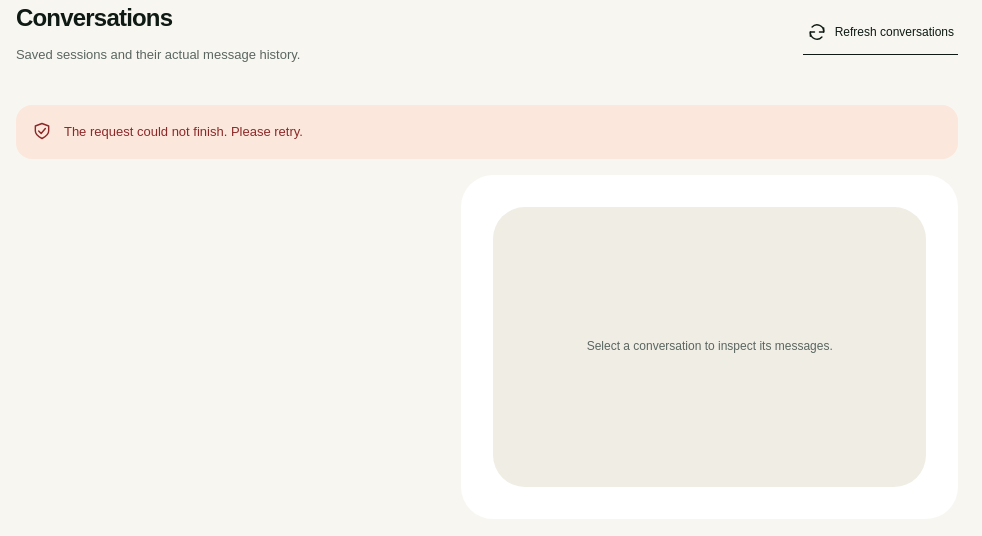
Test: conversation errors are visible and refresh retrieves the list
Expected: the message "The request could not finish. Please retry." is shown, x1=16 y1=105 x2=958 y2=159
Click the button "Refresh conversations". click: (880, 33)
box: x1=803 y1=10 x2=958 y2=55
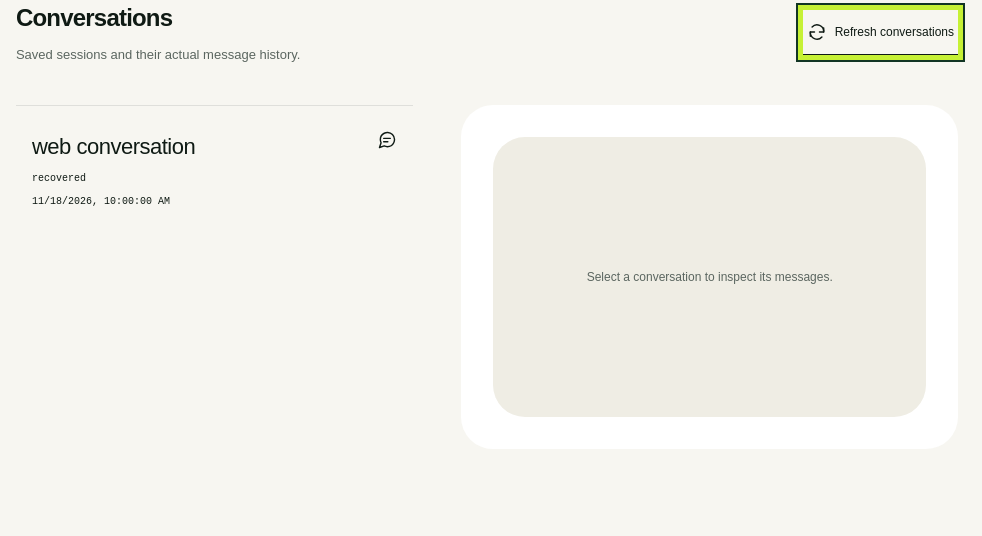
Now the text "recovered" is shown, box x1=32 y1=171 x2=86 y2=186
Now the message "The request could not finish. Please retry." is gone
